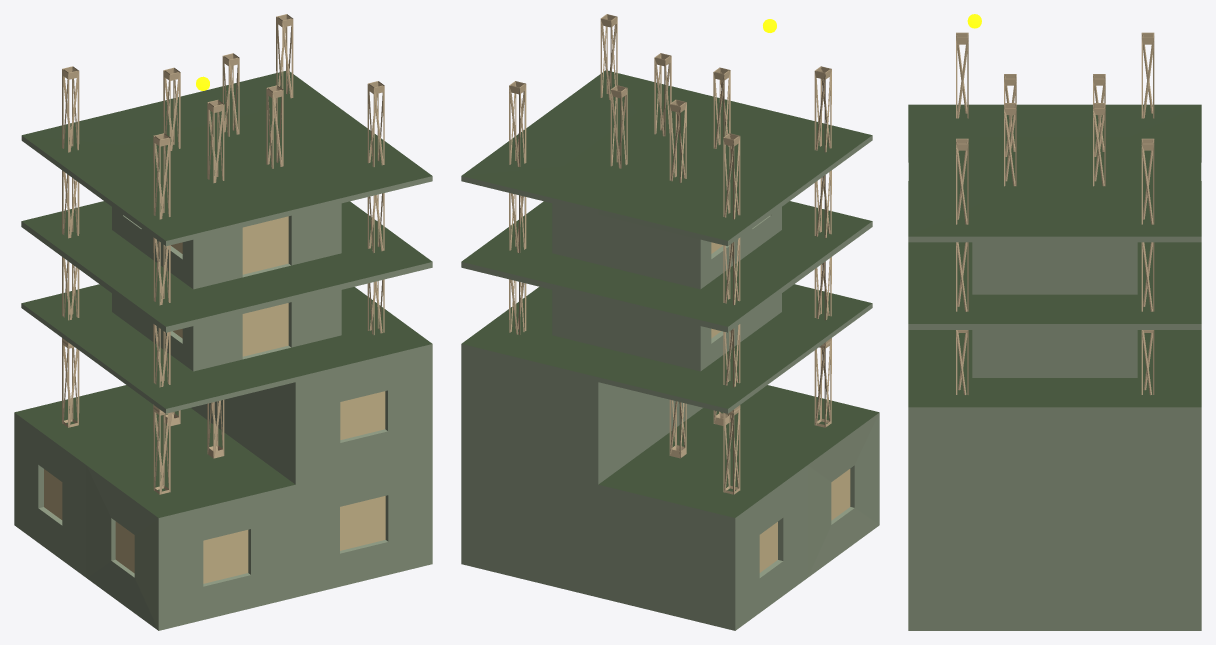
Rendered from prediomapa.fbx.
3 views of the same model, side by side, from view 1: azimuth 30°, elevation 25°; view 2: azimuth 150°, elevation 25°; view 3: azimuth 270°, elevation 25° (orthographic).
Parts seen in each view (by area): view 1: Cube, Cube.001, Cube.002; view 2: Cube, Cube.001, Cube.002; view 3: Cube, Cube.001, Cube.002.
Part boxes in pixels (x1,y1,x2,y2): Cube: (14,71,432,630); Cube.001: (62,14,384,494); Cube.002: (163,53,283,458); Cube: (461,70,879,630); Cube.001: (509,14,831,494); Cube.002: (610,53,730,458); Cube: (908,104,1201,630); Cube.001: (956,32,1154,394); Cube.002: (1004,74,1105,186).
Bounding box in the file's own units: 421 × 750 × 385.
